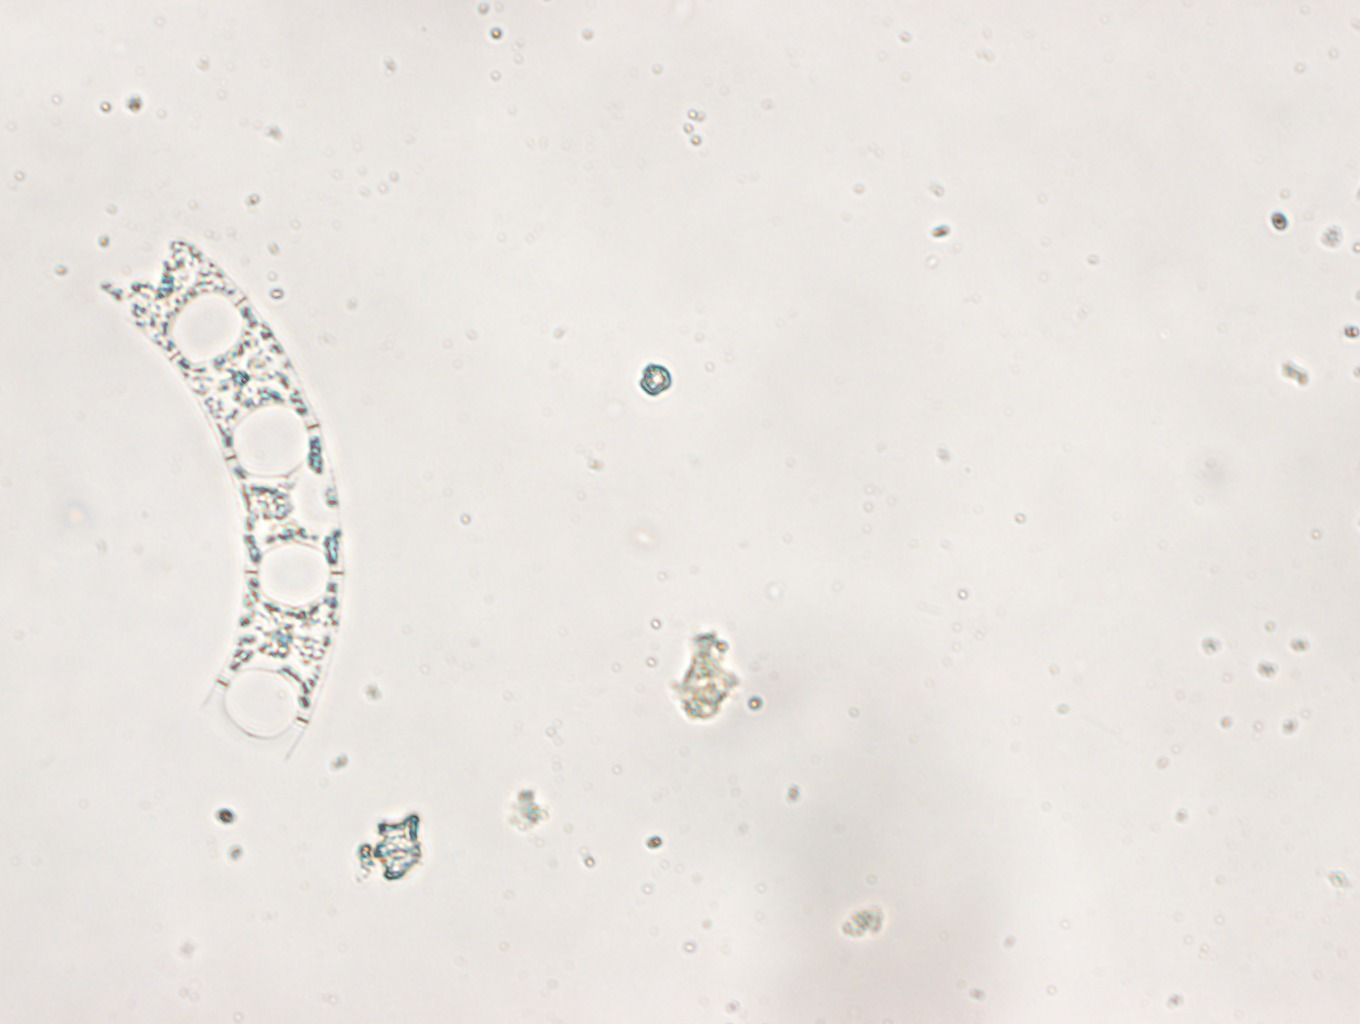eucampia: (98, 241, 344, 759)
